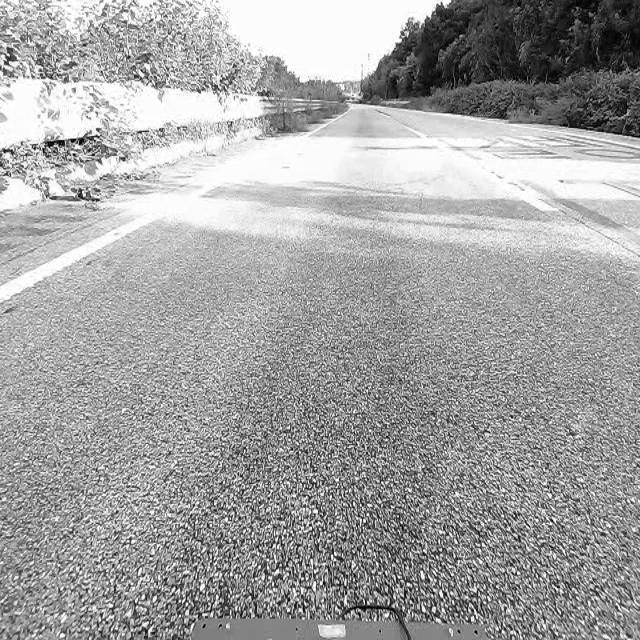Lane: (0, 212, 160, 305), (0, 220, 153, 304)
